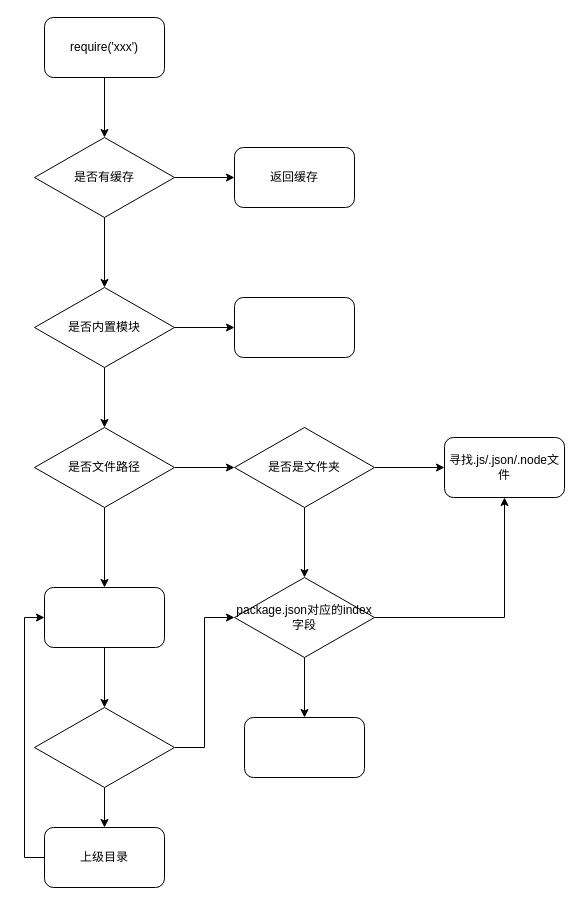
The diagram is 582 pixels wide and 905 high, and some of its shapes have lost their labels. Each missing label, with the box of its shape:
index字段对应的文件: (244, 716, 364, 778)
node_modules: (44, 586, 164, 648)
文件夹是否存在: (34, 706, 174, 788)
返回内置模块: (234, 296, 354, 358)
